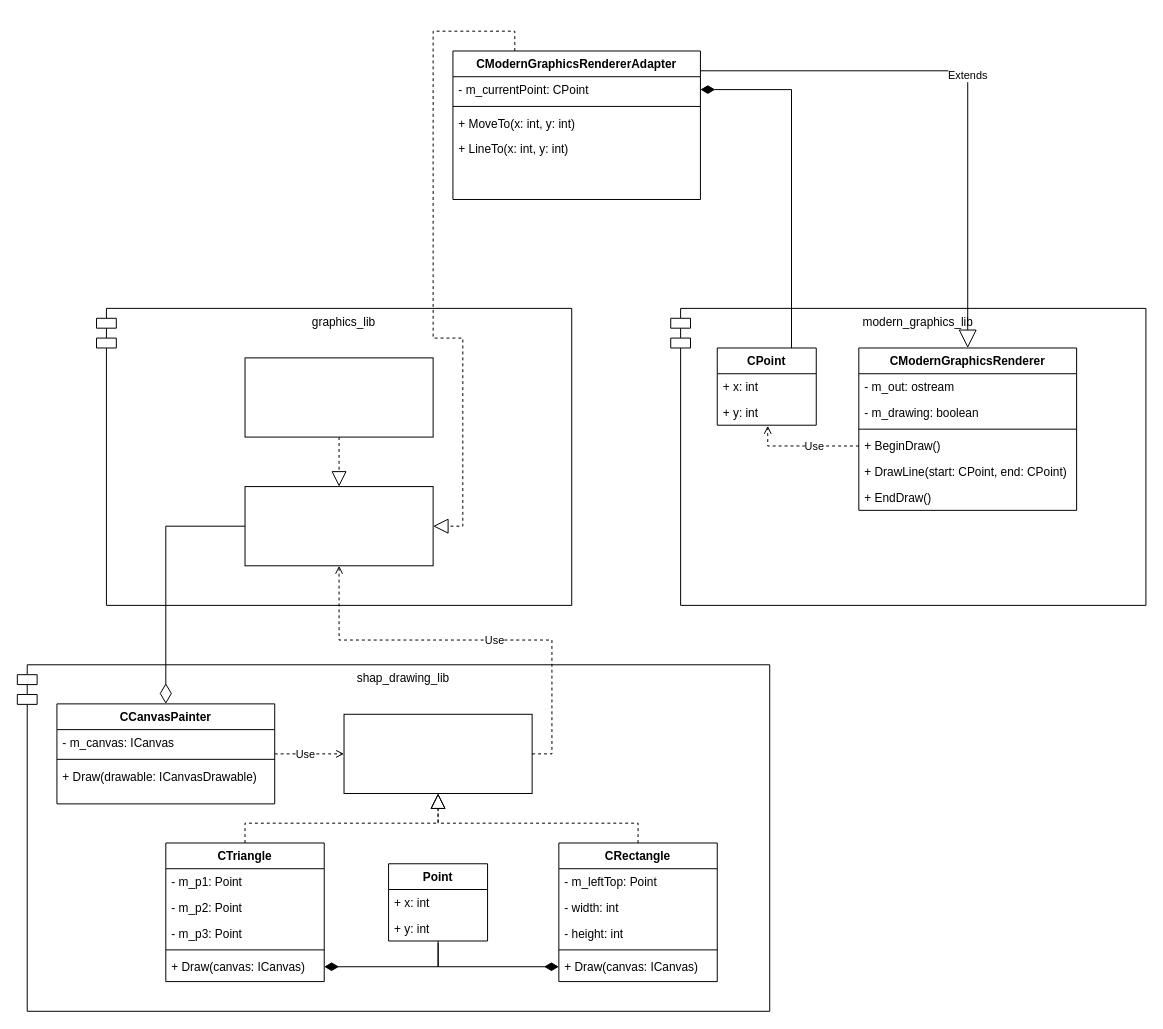
Image size: 1163x1029. Some labels were removed from this diagram. Each missing label, with the centre of its shape:
"<<Interface>> ICanvas + MoveTo(x: int, y: int) + LineTo(x: int, y: int)" belongs at pixel 338 526.
"<<Interface>> ICanvasDrawable + Draw(canvas: ICanvas)" belongs at pixel 437 753.
"C Canvas + MoveTo(x: int, y: int) + LineTo(x: int, y: int)" belongs at pixel 338 397.
